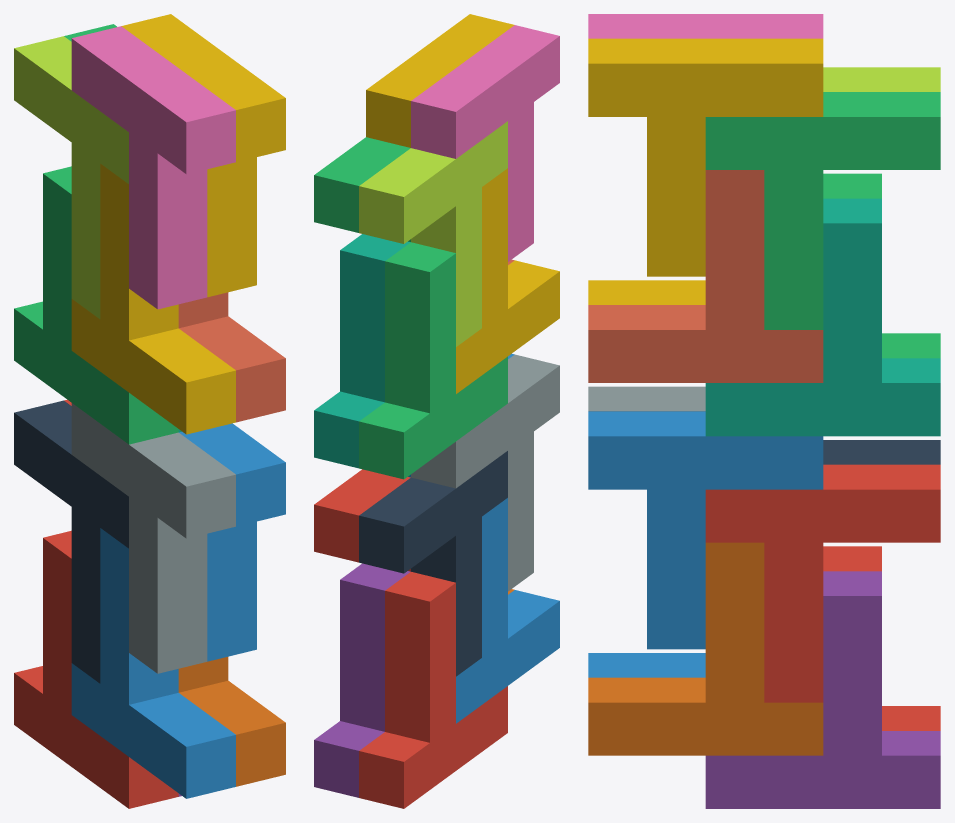
File: tiling.obj
3 renders of one model, left to right at view 1: azimuth 30°, elevation 25°; view 2: azimuth 150°, elevation 25°; view 3: azimuth 270°, elevation 25°, orthographic. The views are drawn at different scales.
Parts seen in each view (by area): view 1: copy_2_domain_4, copy_2_domain_2, copy_1_domain_2, copy_1_domain_4, copy_2_domain_8, copy_1_domain_3, copy_1_domain_1, copy_2_domain_1, copy_2_domain_3, copy_2_domain_6, copy_1_domain_8, copy_1_domain_6; view 2: copy_1_domain_1, copy_1_domain_3, copy_2_domain_4, copy_2_domain_3, copy_2_domain_1, copy_2_domain_2, copy_1_domain_7, copy_1_domain_5, copy_1_domain_4, copy_1_domain_2, copy_2_domain_8, copy_2_domain_7 (+1 smaller); view 3: copy_2_domain_8, copy_2_domain_5, copy_1_domain_6, copy_2_domain_6, copy_1_domain_7, copy_2_domain_7, copy_1_domain_8, copy_1_domain_5, copy_2_domain_4, copy_1_domain_3, copy_2_domain_2, copy_1_domain_1 (+4 smaller).
Part boxes in pixels (x1,y1,x2,y2): copy_2_domain_4: [71, 26, 235, 309]; copy_2_domain_2: [71, 403, 235, 673]; copy_1_domain_2: [71, 528, 235, 798]; copy_1_domain_4: [71, 163, 235, 434]; copy_2_domain_8: [121, 14, 285, 297]; copy_1_domain_3: [14, 166, 178, 444]; copy_1_domain_1: [14, 530, 178, 808]; copy_2_domain_1: [14, 400, 128, 683]; copy_2_domain_3: [14, 36, 128, 318]; copy_2_domain_6: [179, 423, 285, 661]; copy_1_domain_8: [178, 292, 285, 422]; copy_1_domain_6: [178, 657, 285, 786]; copy_1_domain_1: [359, 572, 507, 808]; copy_1_domain_3: [359, 242, 507, 479]; copy_2_domain_4: [411, 25, 559, 261]; copy_2_domain_3: [359, 121, 507, 346]; copy_2_domain_1: [359, 451, 507, 676]; copy_2_domain_2: [411, 354, 559, 591]; copy_1_domain_7: [314, 234, 410, 468]; copy_1_domain_5: [314, 563, 410, 797]; copy_1_domain_4: [456, 168, 559, 393]; copy_1_domain_2: [456, 498, 559, 723]; copy_2_domain_8: [366, 14, 514, 147]; copy_2_domain_7: [314, 137, 410, 241]; copy_2_domain_8: [588, 38, 823, 276]; copy_2_domain_5: [705, 464, 940, 702]; copy_1_domain_6: [588, 542, 823, 755]; copy_2_domain_6: [588, 411, 823, 649]; copy_1_domain_7: [705, 198, 940, 436]; copy_2_domain_7: [705, 92, 940, 329]; copy_1_domain_8: [588, 170, 823, 382]; copy_1_domain_5: [705, 571, 940, 808]; copy_2_domain_4: [588, 14, 823, 38]; copy_1_domain_3: [823, 173, 940, 358]; copy_2_domain_2: [588, 386, 705, 411]; copy_1_domain_1: [823, 546, 940, 730].
Size of the model in its own units: 2 by 14 by 6.
